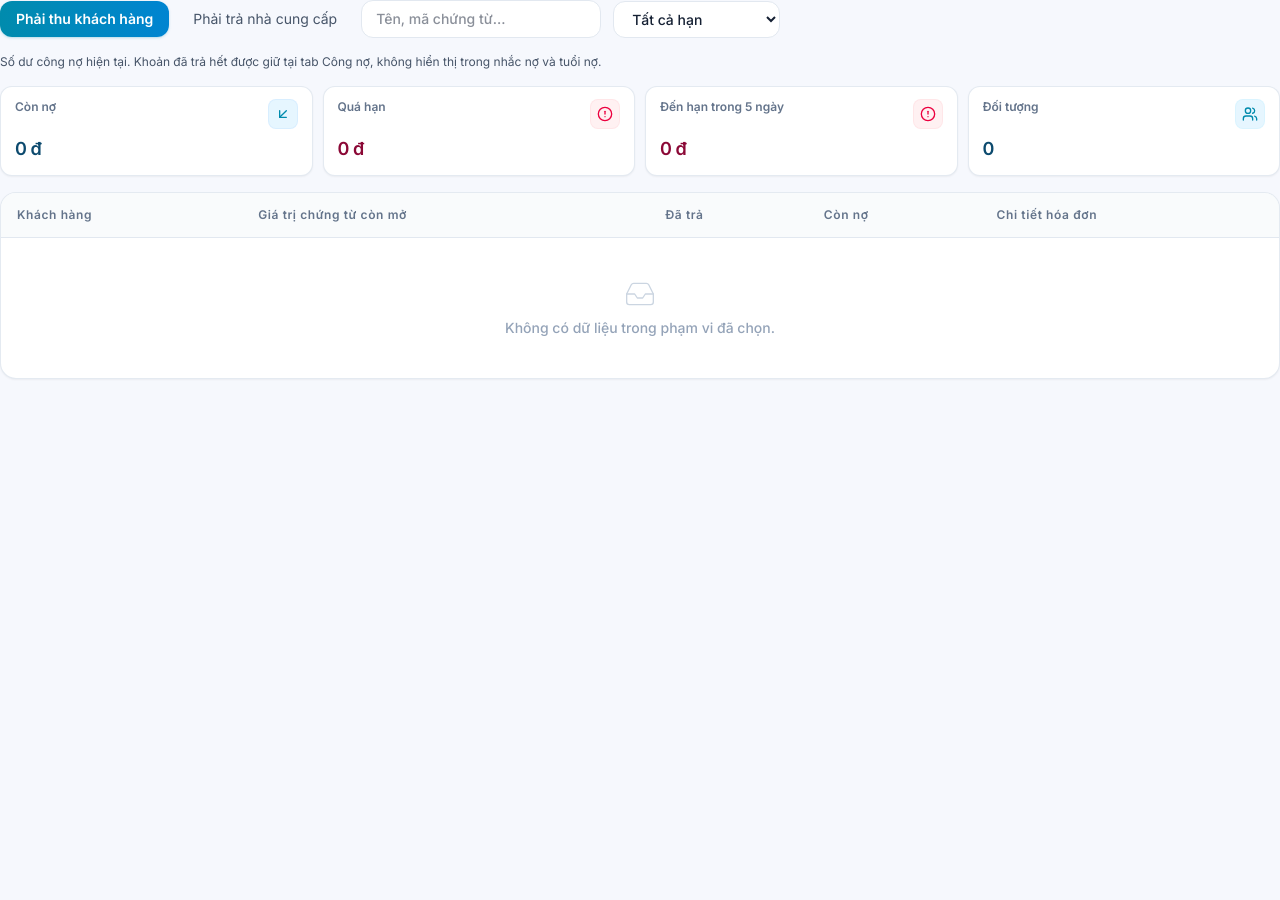
warns on overpayment without sending a voucher and allows correcting to the exact balance
This screenshot has width=1280, height=900.
Expected: the text "Số dư công nợ hiện tại" is shown, [0,54,601,69]
Click the button "Phải trả nhà cung cấp" at {"x": 265, "y": 19}, box [181,1,349,37]
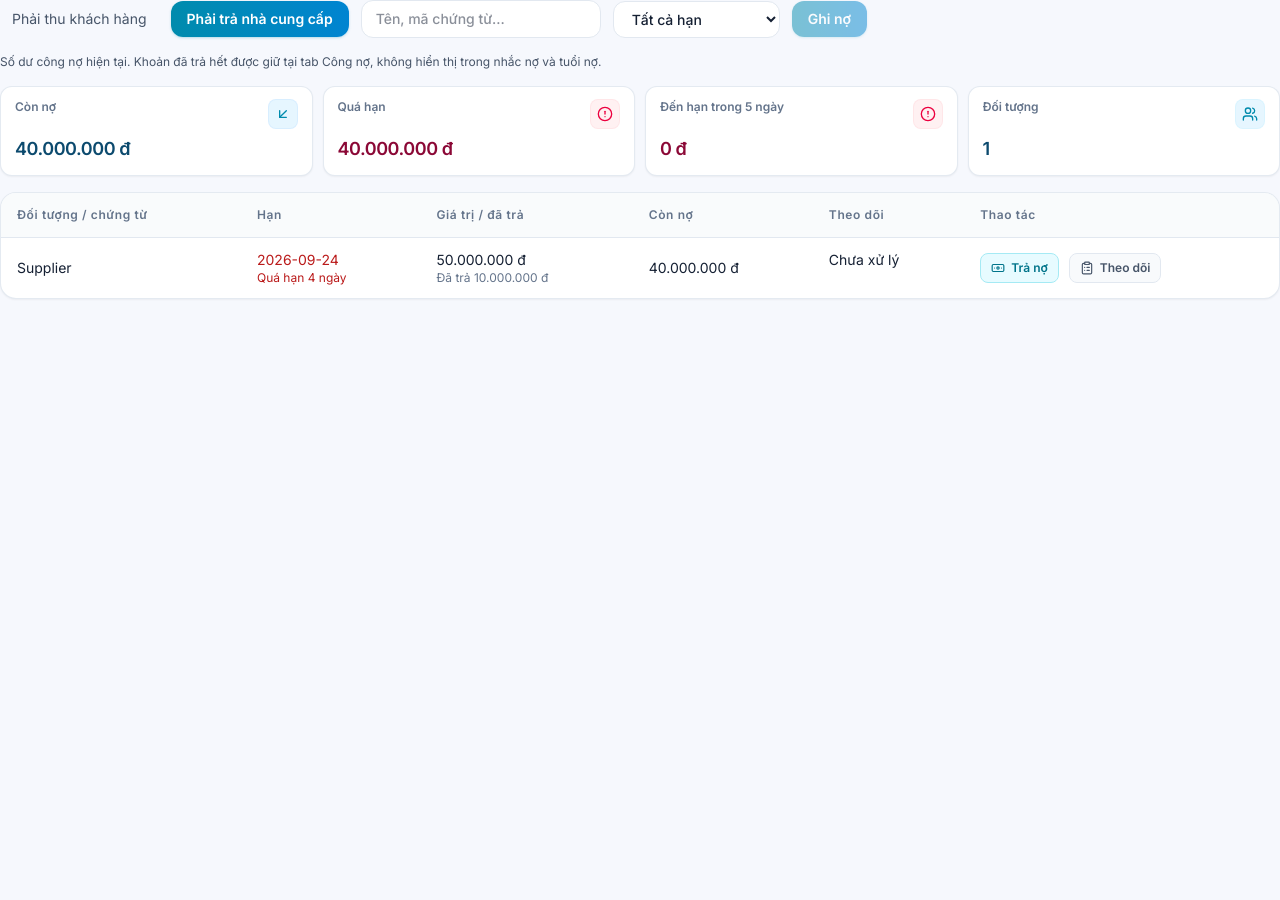
Click the button "Trả nợ" at {"x": 1020, "y": 268}, box [980,253,1059,283]
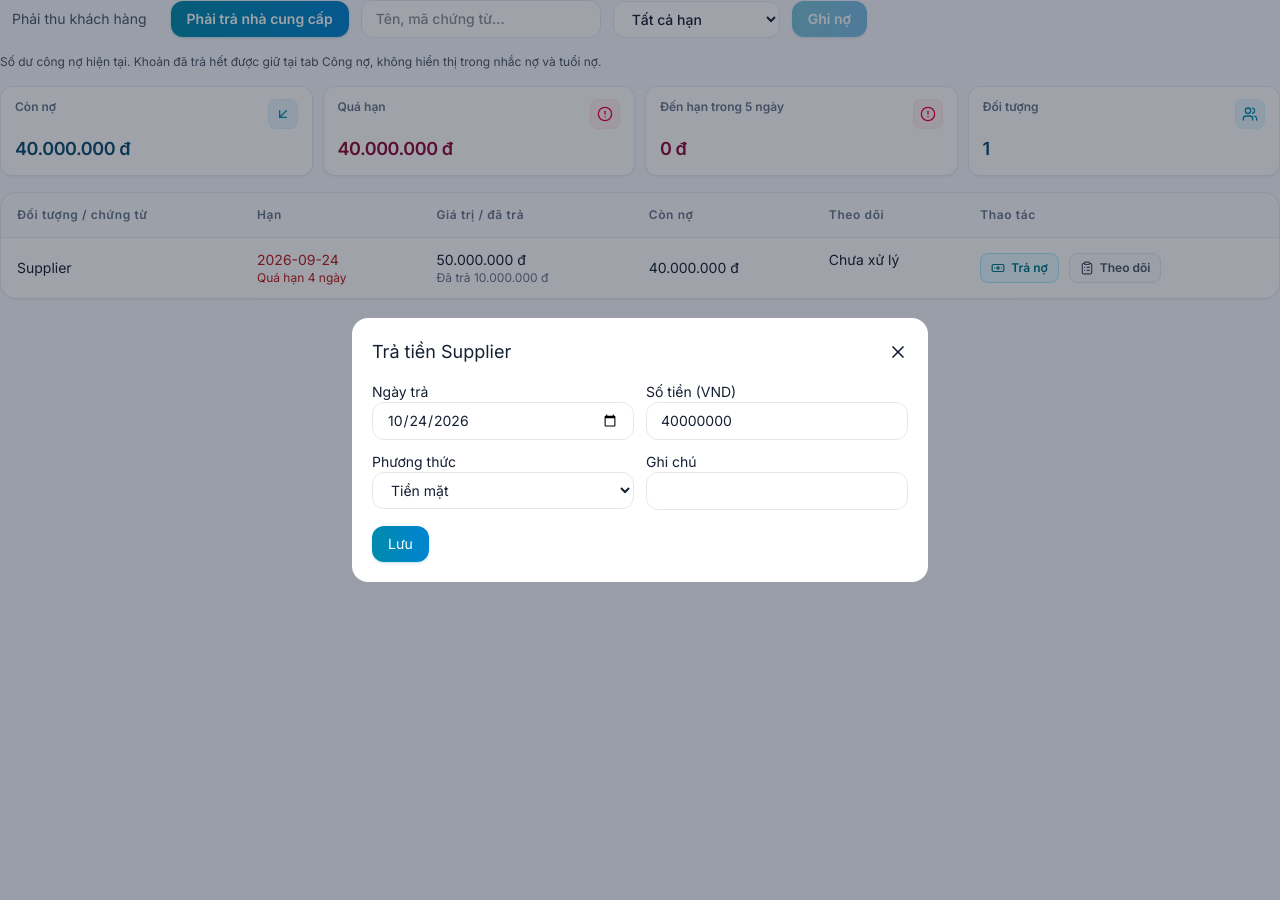
Replace the text in the number field labelled "Số tiền (VND)" with "40000001" at {"x": 777, "y": 421}, box [646,402,908,440]
Type "2026-09-28" into the date field labelled "Ngày trả" at {"x": 503, "y": 421}, box [372,402,634,440]
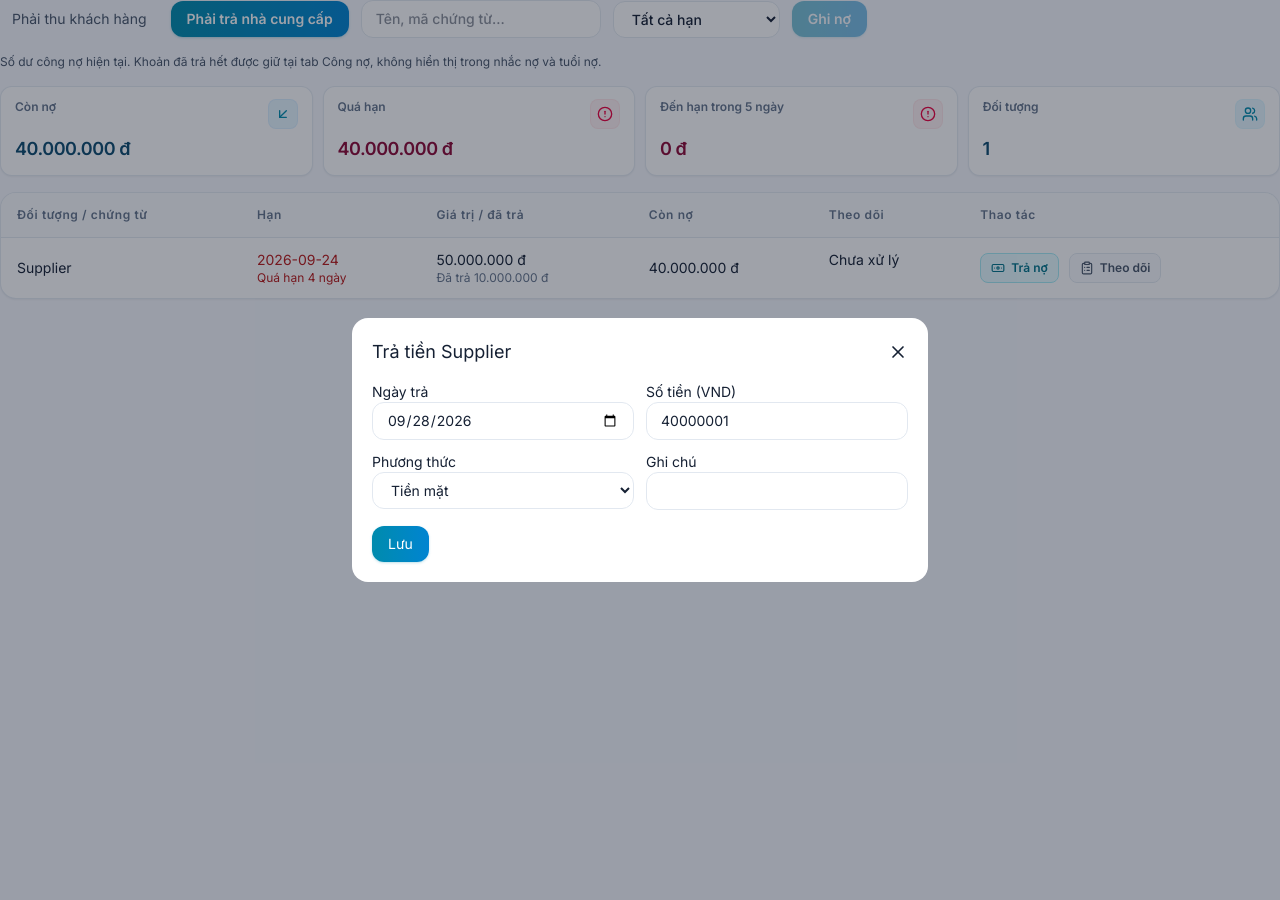
Click the button "Lưu" at {"x": 400, "y": 544}, box [372,526,429,562]
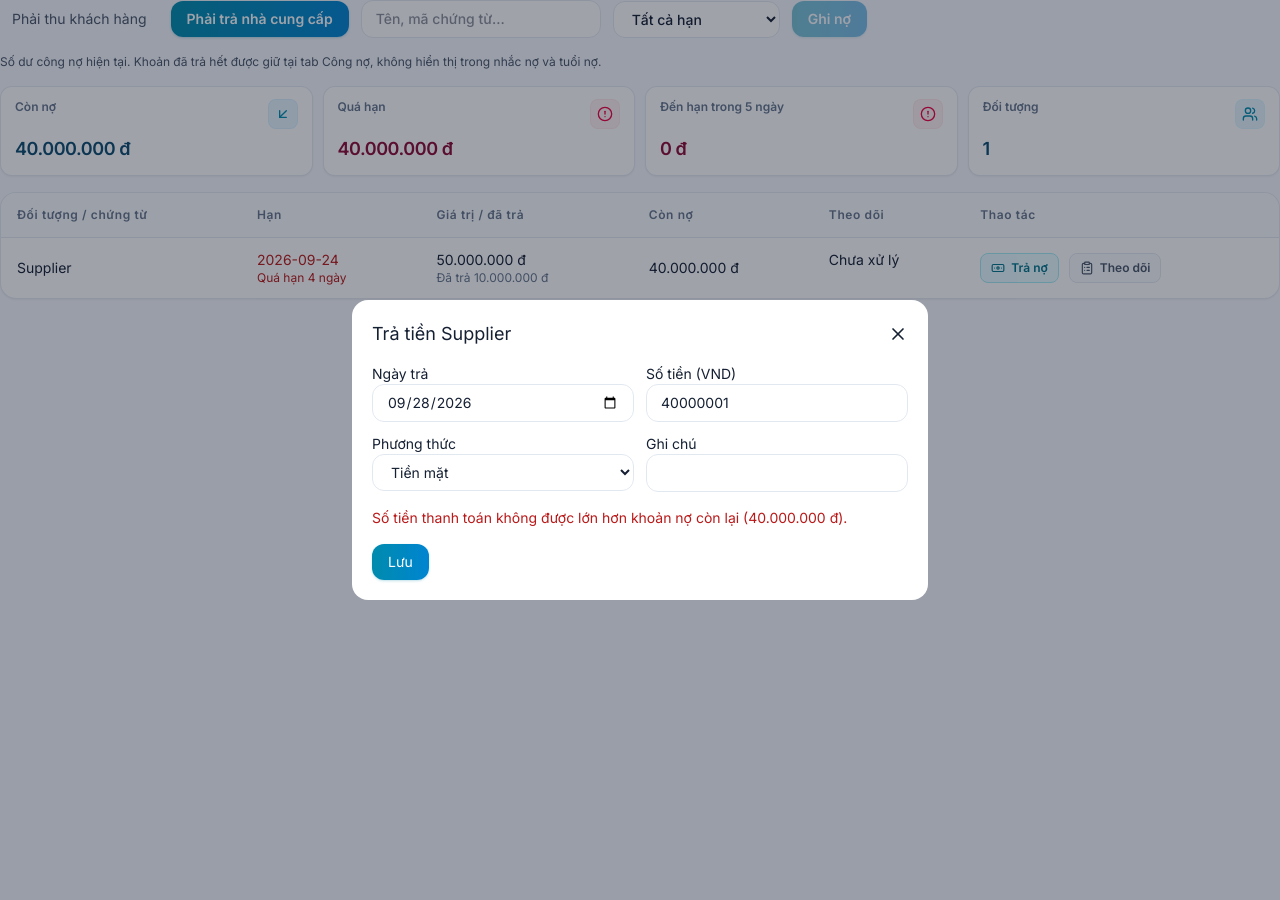
Expected: the message reads "Số tiền thanh toán không được lớn hơn khoản nợ còn lại (40.000.000 đ).", [372,509,847,526]
Replace the text in the number field labelled "Số tiền (VND)" with "40000000" at {"x": 777, "y": 403}, box [646,384,908,422]
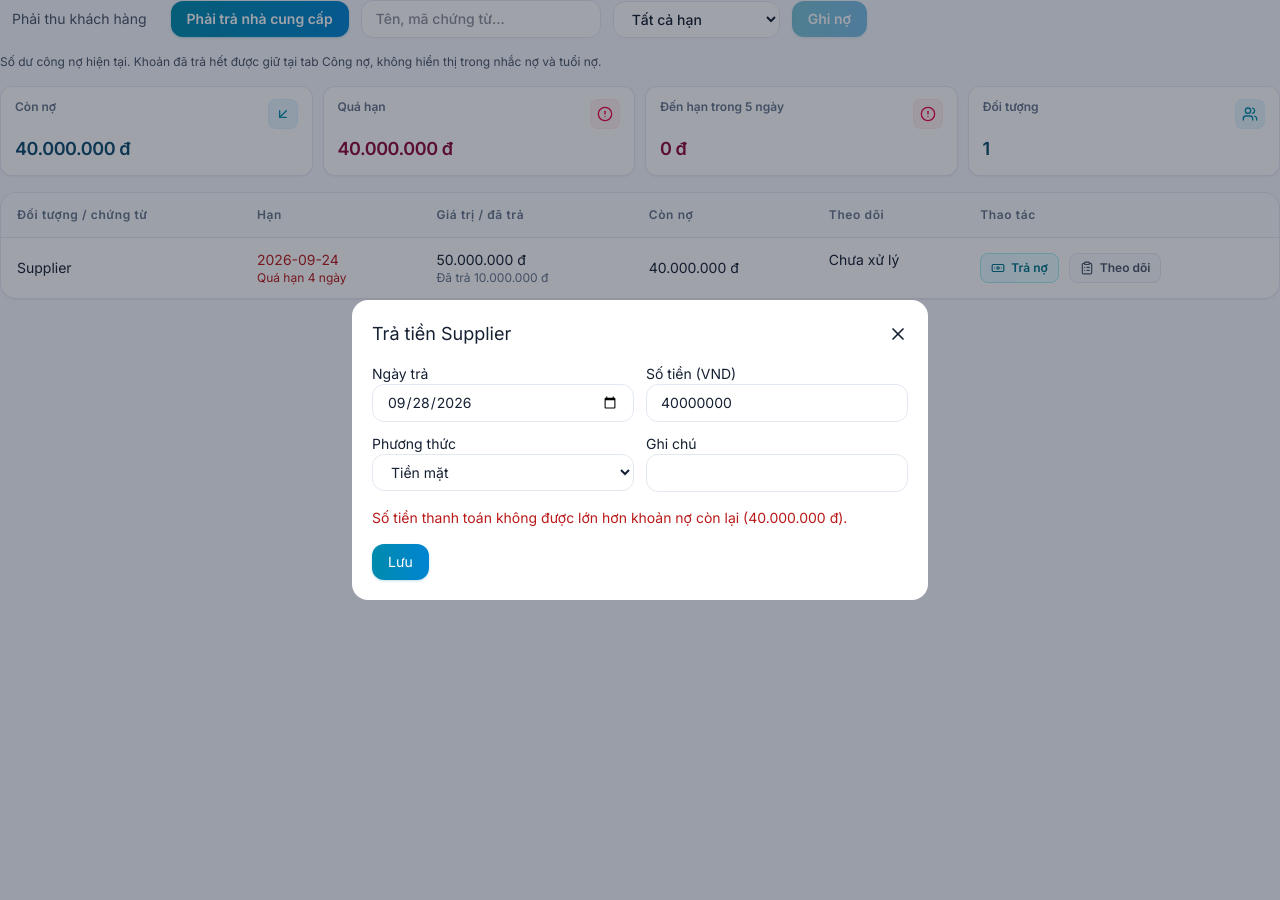
Click the button "Lưu" at {"x": 400, "y": 562}, box [372,544,429,580]
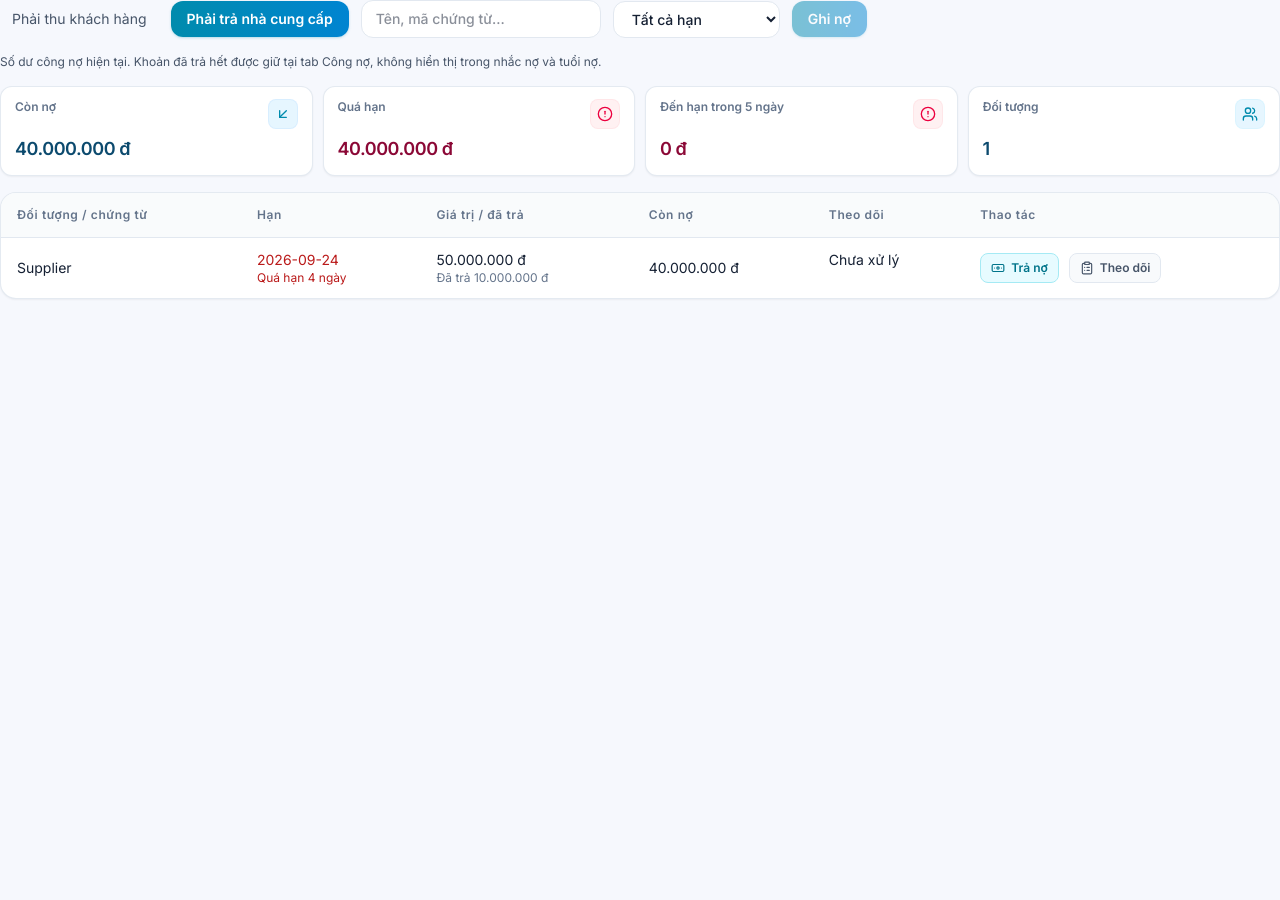
Expected: the dialog is gone
